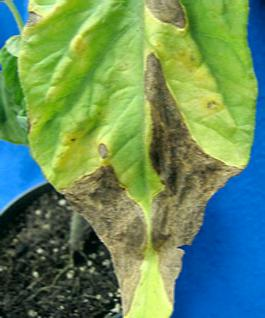Tomato leaf late blight: (12, 0, 258, 318)
